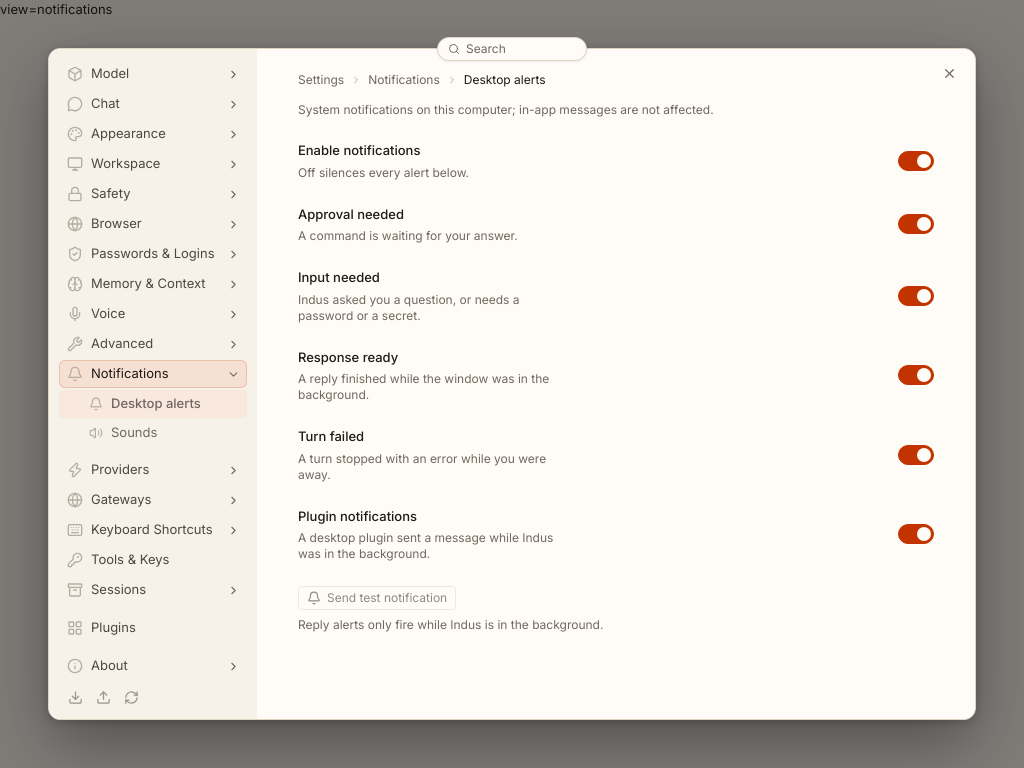
Scenario: settings-b pages (W52-j) › the notifications master switch writes every kind; off dims the five rows
Click the switch named "Enable notifications" at (916, 161), box top-left (898, 151), bottom-right (934, 171)
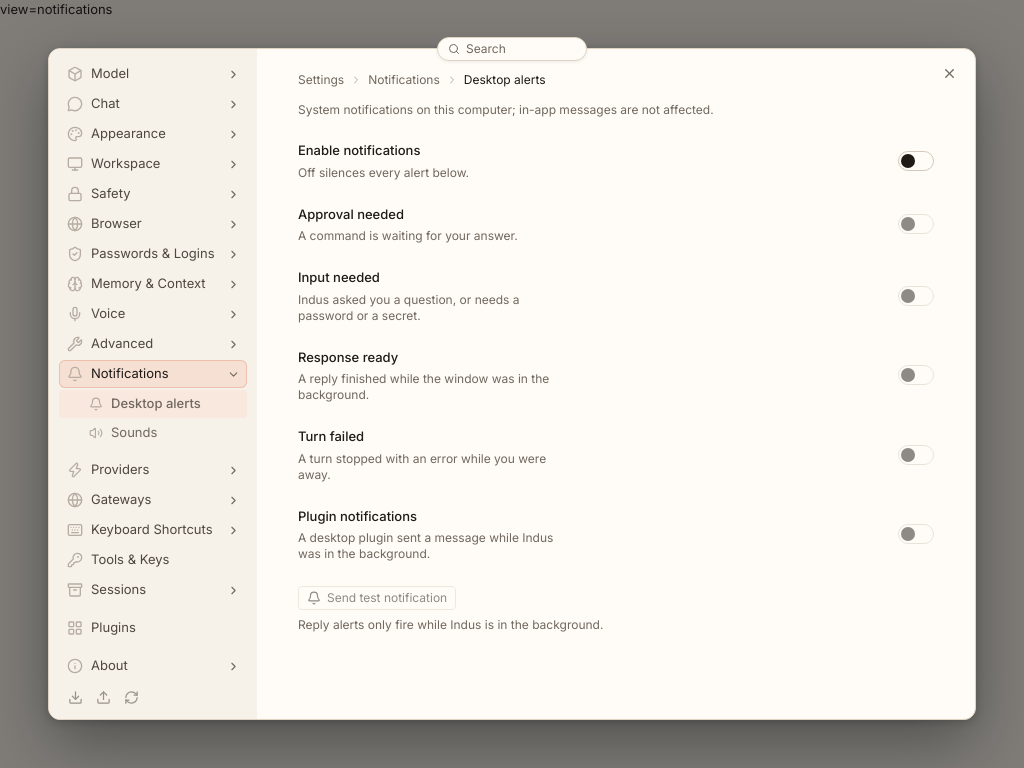
Now the switch named "Approval needed" is disabled, box top-left (898, 214), bottom-right (934, 234)
Now the switch named "Input needed" is disabled, box top-left (898, 286), bottom-right (934, 306)
Now the switch named "Response ready" is disabled, box top-left (898, 365), bottom-right (934, 385)
